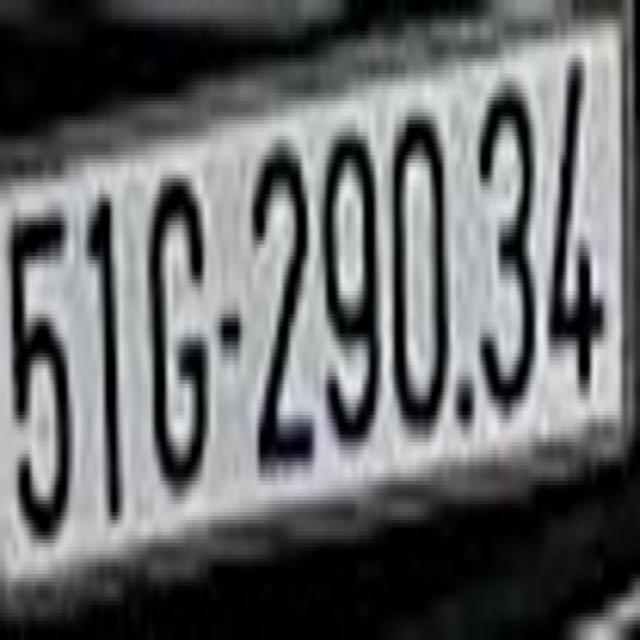0: (390, 100, 448, 434)
1: (84, 167, 128, 520)
2: (250, 104, 318, 470)
3: (476, 74, 539, 408)
4: (544, 43, 607, 388)
5: (4, 202, 73, 524)
9: (322, 108, 380, 450)
G: (143, 163, 210, 512)
